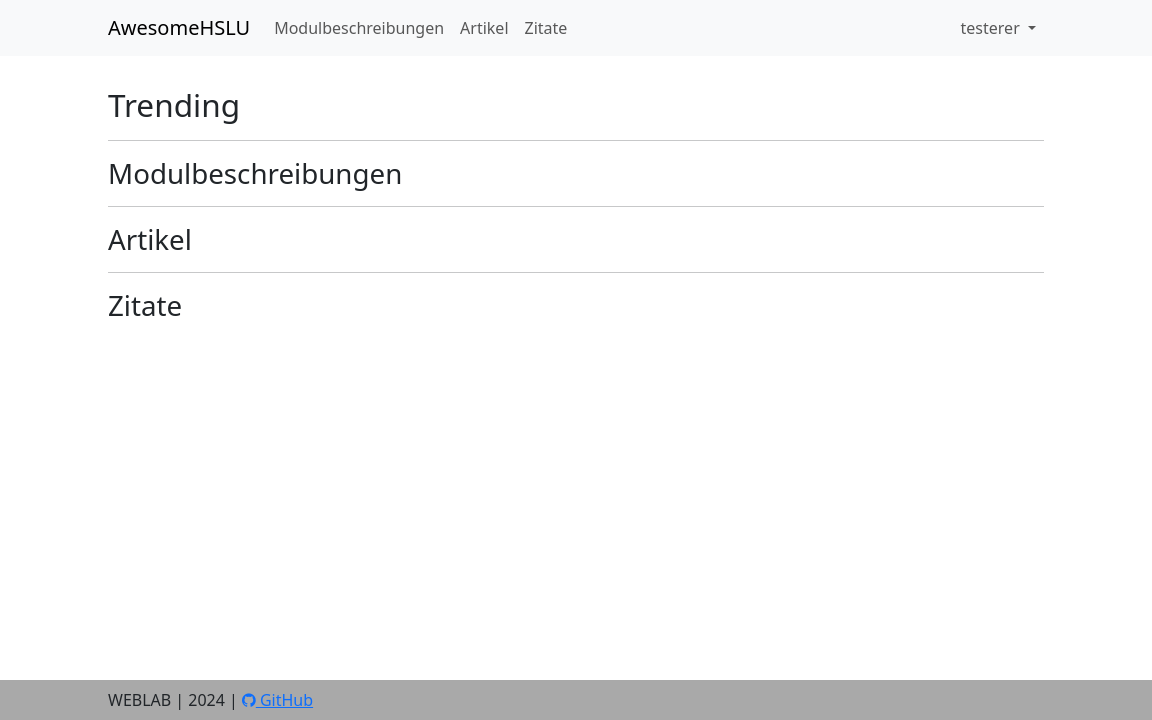
Logout › Should logout
Step 1. Click the button "testerer" → (999,28), box x1=953 y1=8 x2=1044 y2=48
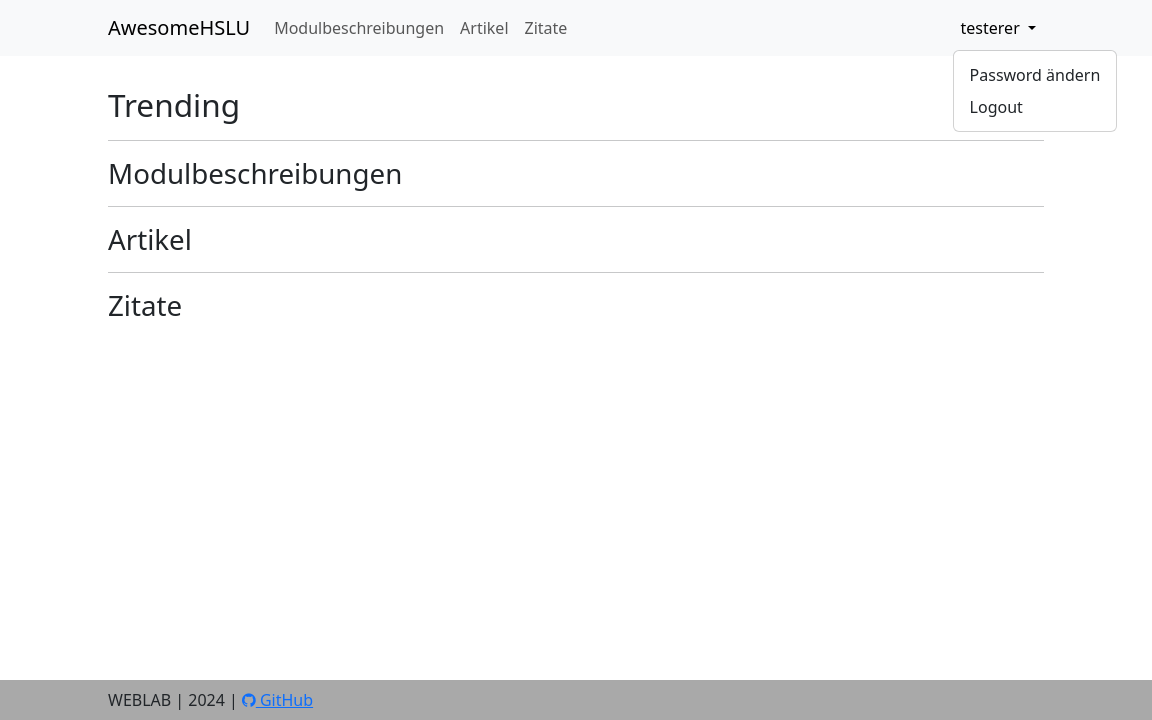
Step 2. Click the link "Logout" → (997,107), box x1=970 y1=96 x2=1023 y2=118
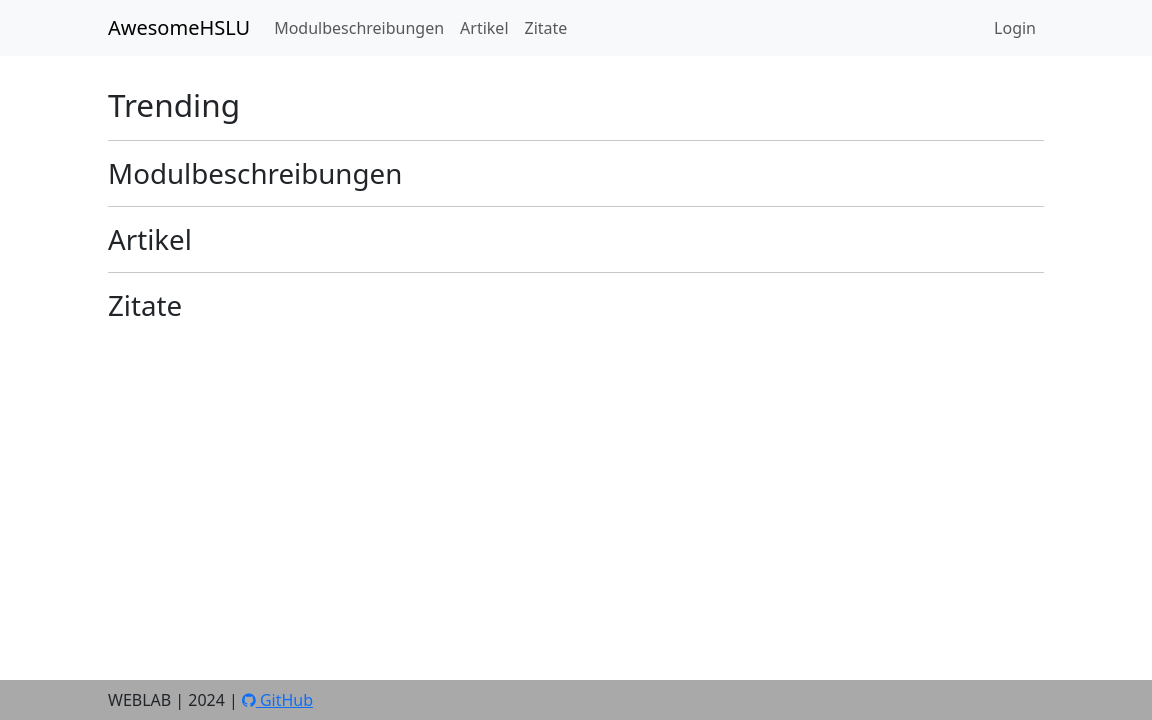
Expected: the link "Login" is shown, x1=994 y1=17 x2=1036 y2=39
